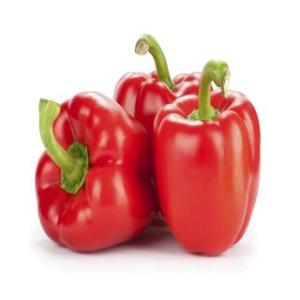bell_pepper: (154, 55, 262, 257), (34, 82, 152, 258), (111, 32, 204, 144)
